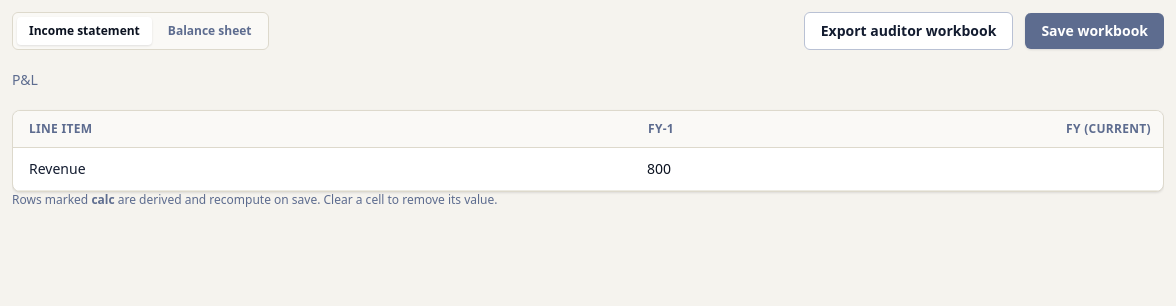
Test: WorkbookTab — edges › when the server will not answer › falls back to its own words when the export fails without a message
Expected: the text "Revenue" is shown, [13, 148, 209, 190]
Click the button "Export auditor workbook" at (909, 31), box [804, 12, 1013, 50]
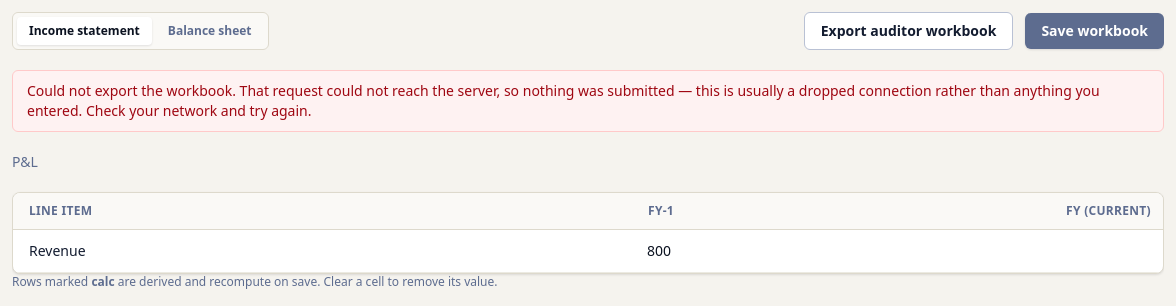
Expected: the text "Could not export the workbook." is shown, [27, 81, 1100, 120]
